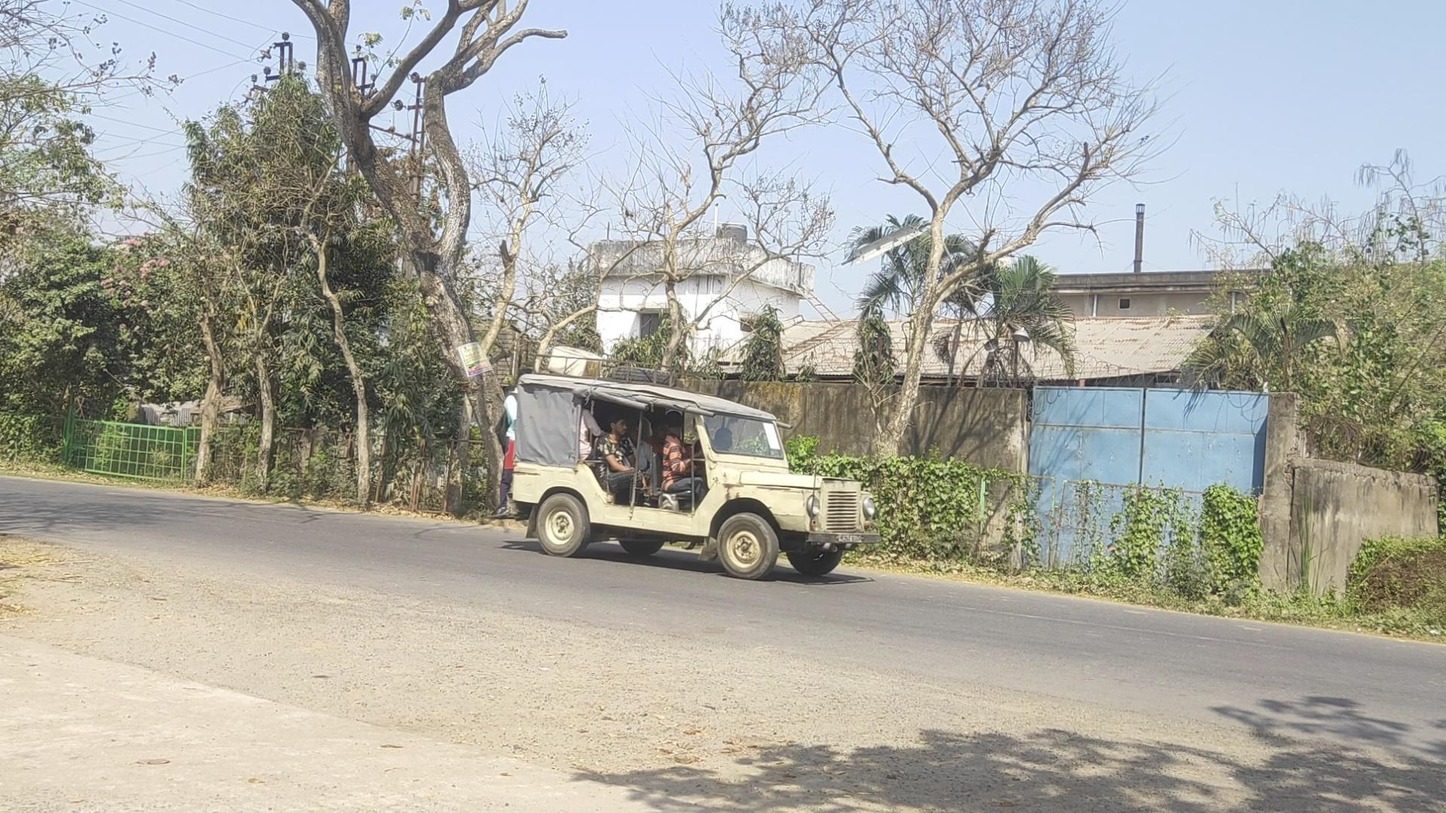car: (493, 345, 880, 580)
